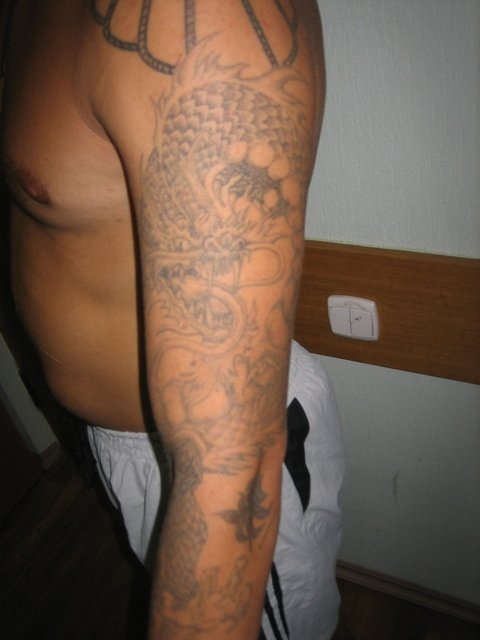tatu6_drakon: (135, 37, 310, 640)
